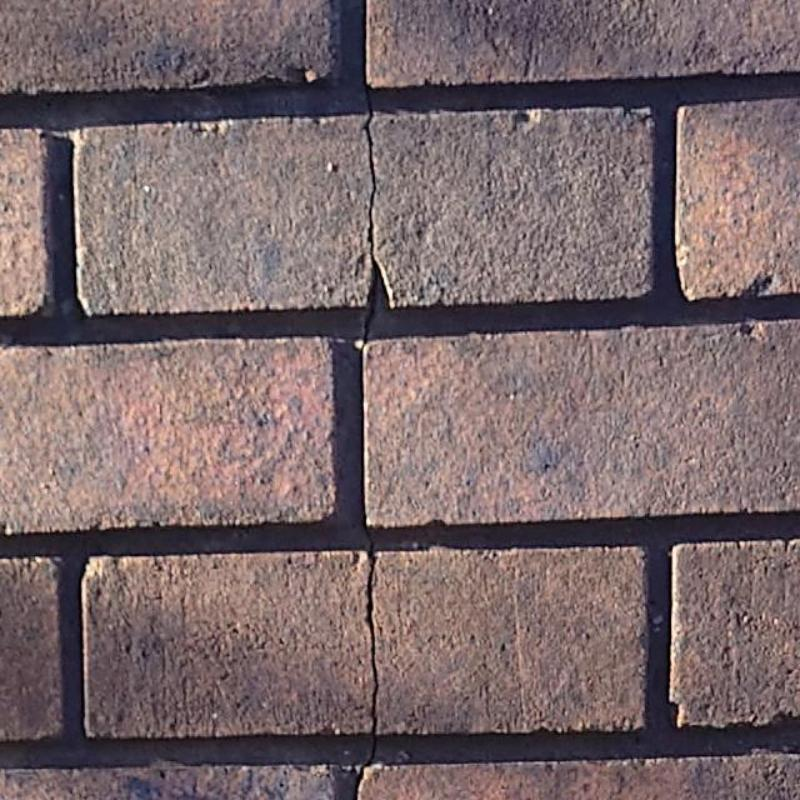pothole: (362, 0, 391, 345), (353, 517, 381, 799), (359, 345, 365, 518)
